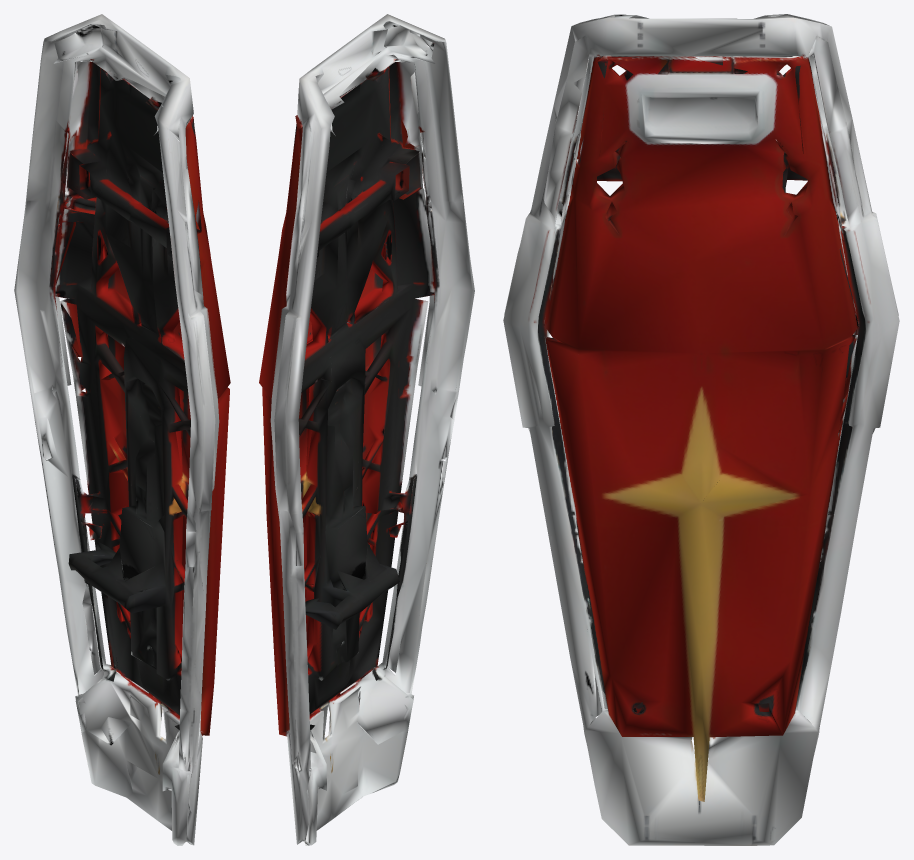
The model's file is equip-shield.glb.
The picture shows the model from 3 angles, left to right: view 1: azimuth 30°, elevation 25°; view 2: azimuth 150°, elevation 25°; view 3: azimuth 270°, elevation 25°; orthographic projection. The views are drawn at different scales.
Visible parts, largest first — view 1: Mesh_0; view 2: Mesh_0; view 3: Mesh_0.
Boxes of the visible parts, x1=… form: Mesh_0: x1=14, y1=14, x2=230, y2=845; Mesh_0: x1=259, y1=14, x2=474, y2=845; Mesh_0: x1=503, y1=14, x2=899, y2=845.
Bounding box in the file's own units: 0.2231 × 1.91 × 0.8338.
1 material, 1 textured.
